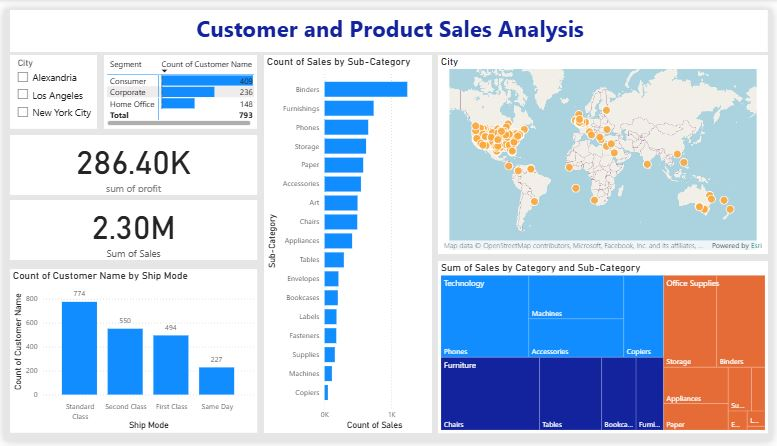

The page's visual inventory and layout, read from the dashboard file:
{"tool":"powerbi","page":{"name":"Page 1","canvas":[1280,720],"ordinal":0},"visuals":[{"type":"clusteredColumnChart","fields":{"Category":["Orders.Ship Mode"],"Y":["Count(Orders.Customer Name)"]},"box":[10,433.3,411.7,273.3],"z":0},{"type":"pivotTable","fields":{"Rows":["Orders.Ship Mode","Orders.Segment"],"Values":["Count(Orders.Customer Name)"]},"box":[166.7,76.7,255,123.3],"z":1000},{"type":"slicer","fields":{"Values":["Orders.City"]},"box":[10,76.7,145,123.3],"z":2000},{"type":"card","fields":{"Values":["Sum(Orders.Sales)"]},"box":[10,318.3,411.7,100],"z":3000},{"type":"card","fields":{"Values":["Orders.sum of profit"]},"box":[10,210,411.7,100],"z":4000},{"type":"clusteredBarChart","fields":{"Category":["Orders.Sub-Category"],"Y":["Count(Orders.Sales)"]},"box":[433.3,76.7,280,630],"z":5000},{"type":"treemap","fields":{"Values":["Sum(Orders.Sales)"],"Group":["Orders.Category"],"Details":["Orders.Sub-Category"]},"box":[723.3,420,550,286.7],"z":6000},{"type":"esriVisual","fields":{"Location":["Orders.City"]},"box":[723.3,76.7,550,330],"z":8000},{"type":"textbox","box":[10,1.7,1263.3,70],"z":9000}]}

Visuals, with their boxes in screenshot pixels (x1, y1, x2, y2), scaled from the page's 1280x720 canvas onto the 777x446 screenshot:
clusteredColumnChart - Orders.Ship Mode x Count(Orders.Customer Name): box(6, 268, 256, 438)
pivotTable - Orders.Ship Mode x Orders.Segment: box(101, 48, 256, 124)
slicer - Orders.City: box(6, 48, 94, 124)
card - Sum(Orders.Sales): box(6, 197, 256, 259)
card - Orders.sum of profit: box(6, 130, 256, 192)
clusteredBarChart - Orders.Sub-Category x Count(Orders.Sales): box(263, 48, 433, 438)
treemap - Sum(Orders.Sales) x Orders.Category: box(439, 260, 773, 438)
esriVisual - Orders.City: box(439, 48, 773, 252)
textbox: box(6, 1, 773, 44)
